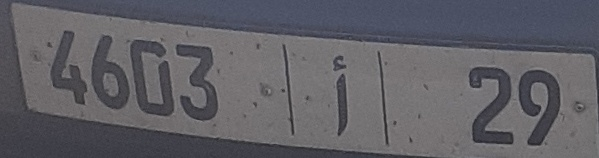0: (129, 36, 175, 118)
2: (466, 62, 518, 146)
3: (174, 41, 220, 125)
4: (47, 26, 92, 108)
6: (89, 33, 132, 113)
9: (517, 66, 563, 149)
a: (328, 51, 352, 141)
